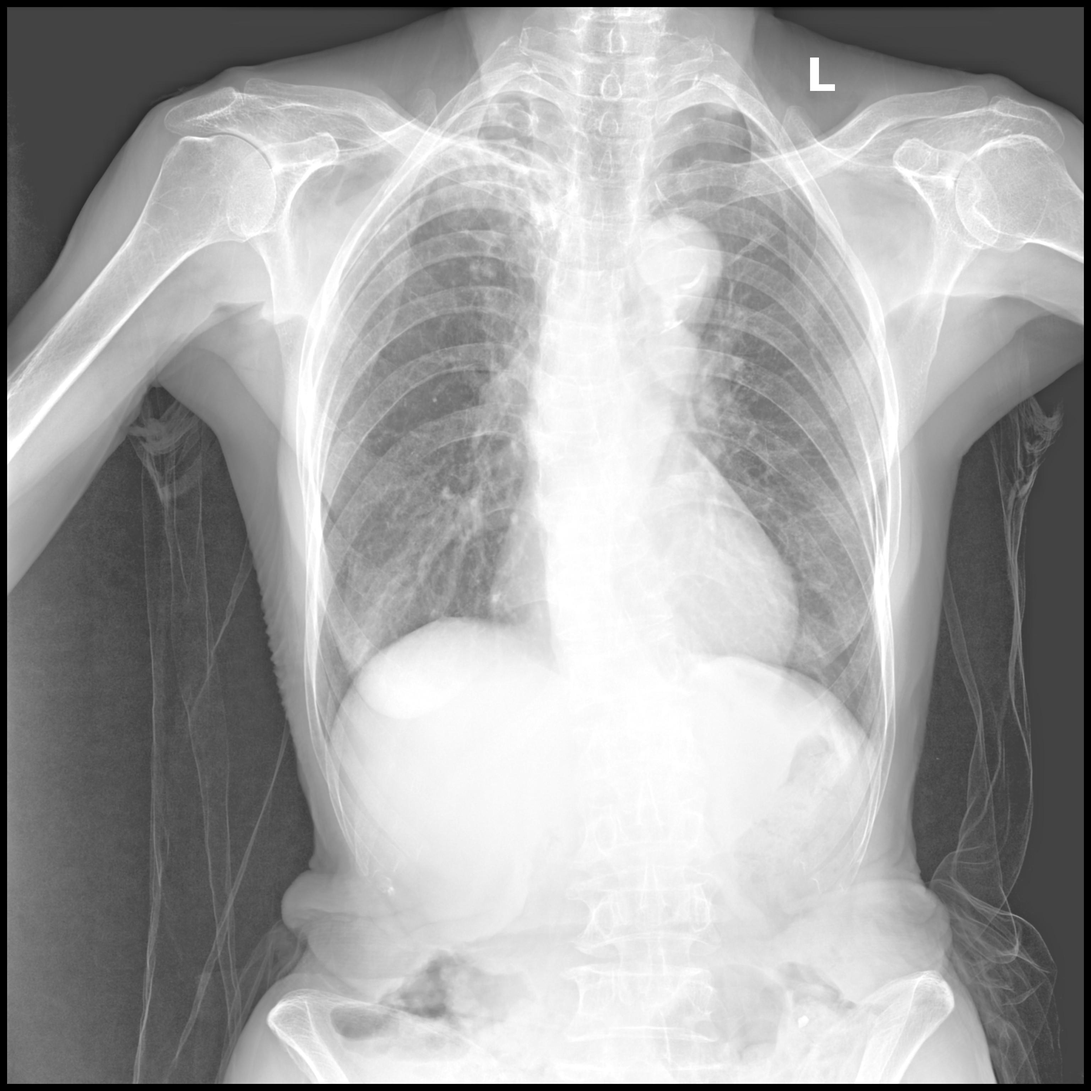Aortic enlargement: (630, 213, 724, 321)
Cardiomegaly: (486, 553, 803, 670)
Pleural thickening: (696, 103, 743, 120), (482, 91, 542, 102)
Pulmonary fibrosis: (421, 88, 553, 285)
